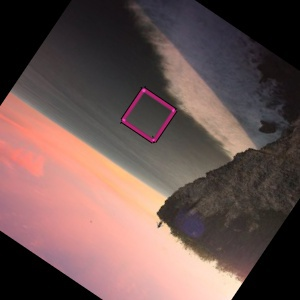square: (119, 84, 179, 146)
